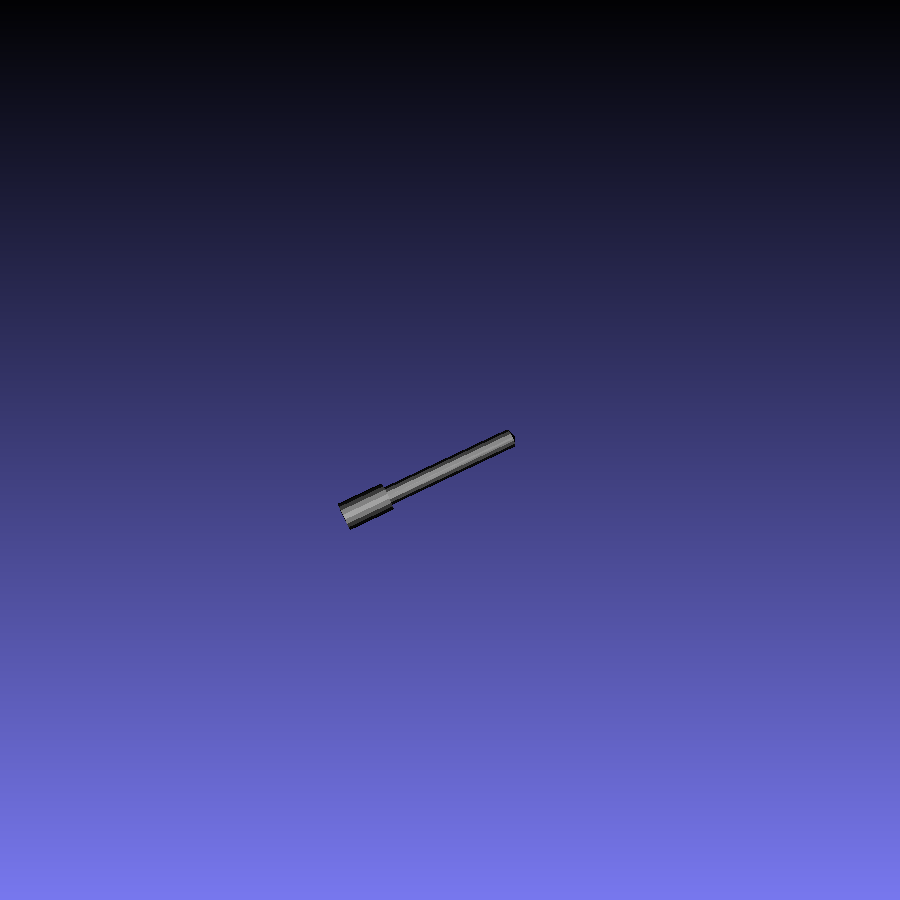cargo_g: (336, 428, 519, 530)
